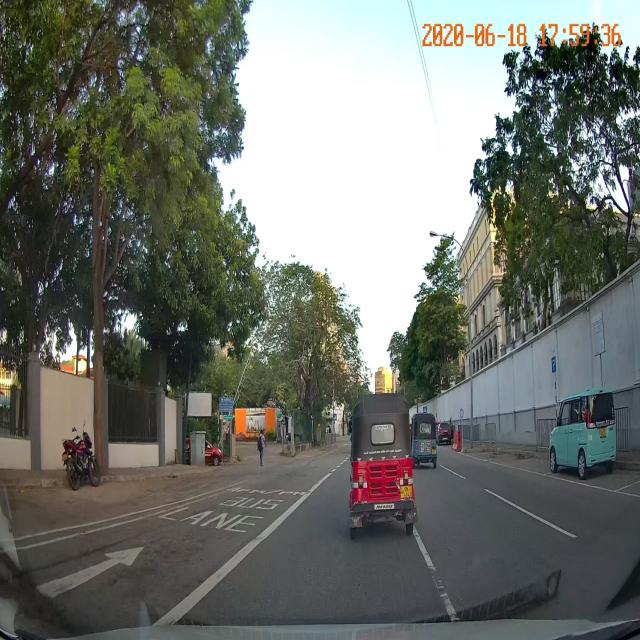BUS LANE: (154, 495, 287, 536)
Strelka vpered: (29, 545, 146, 602)
